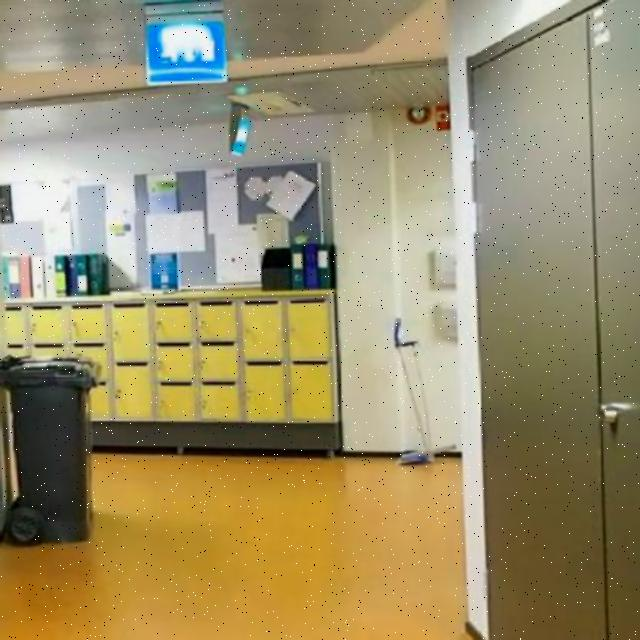emergency_exit: (144, 13, 229, 85)
